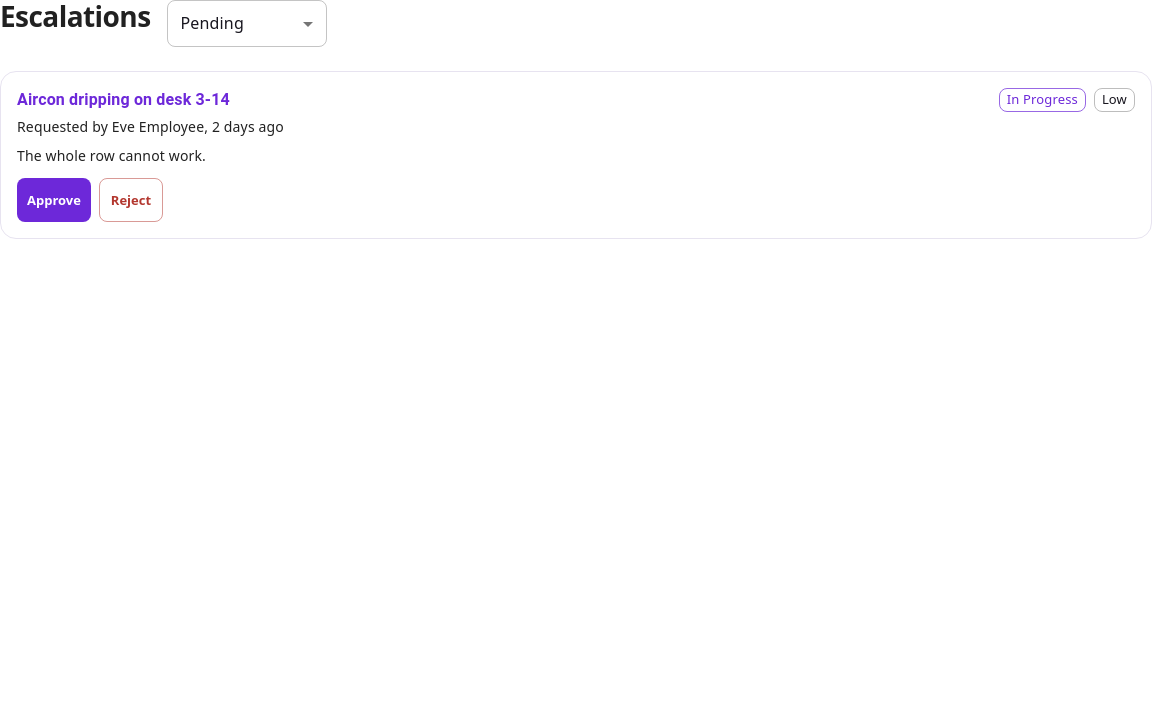
Scenario: EscalationsPage › approves with a note, tells the admin the new priority and reloads
The width and height of the screenshot is (1152, 720).
Click the button "Approve" at (54, 200), box [17,178,91,222]
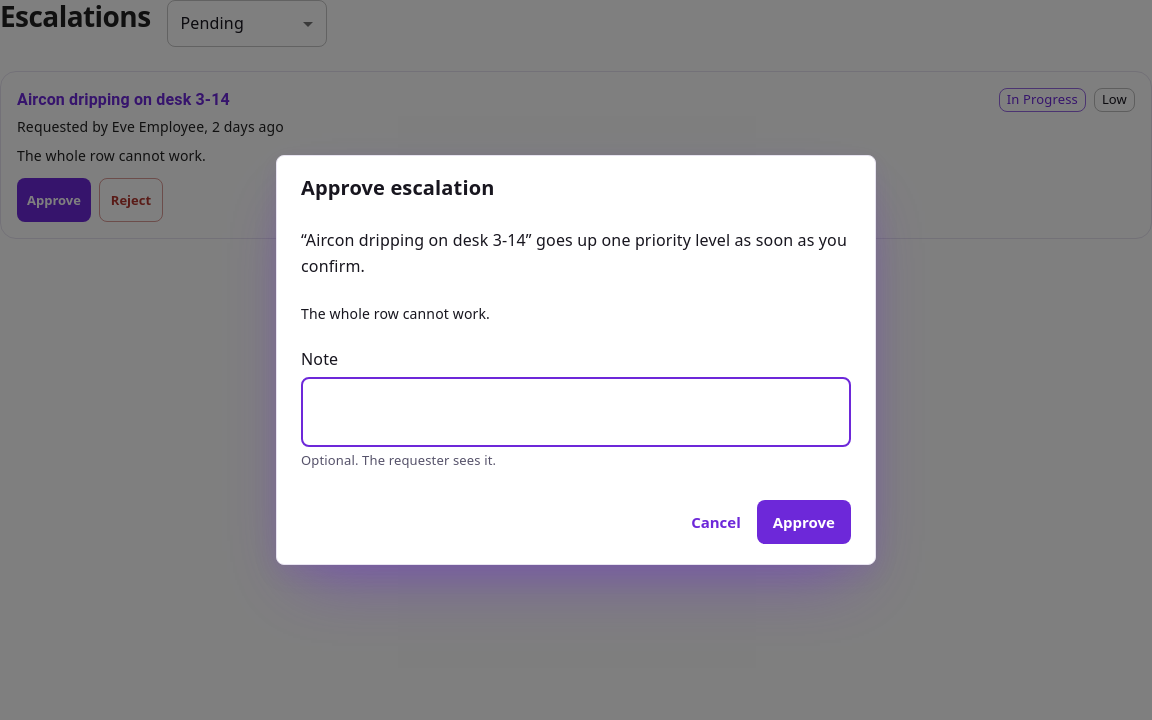
Expected: the text "goes up one priority level" is shown, [301,229,847,277]
Type "Agreed, the row is out." into the text box labelled "Note" at (576, 412), box [301,377,851,447]
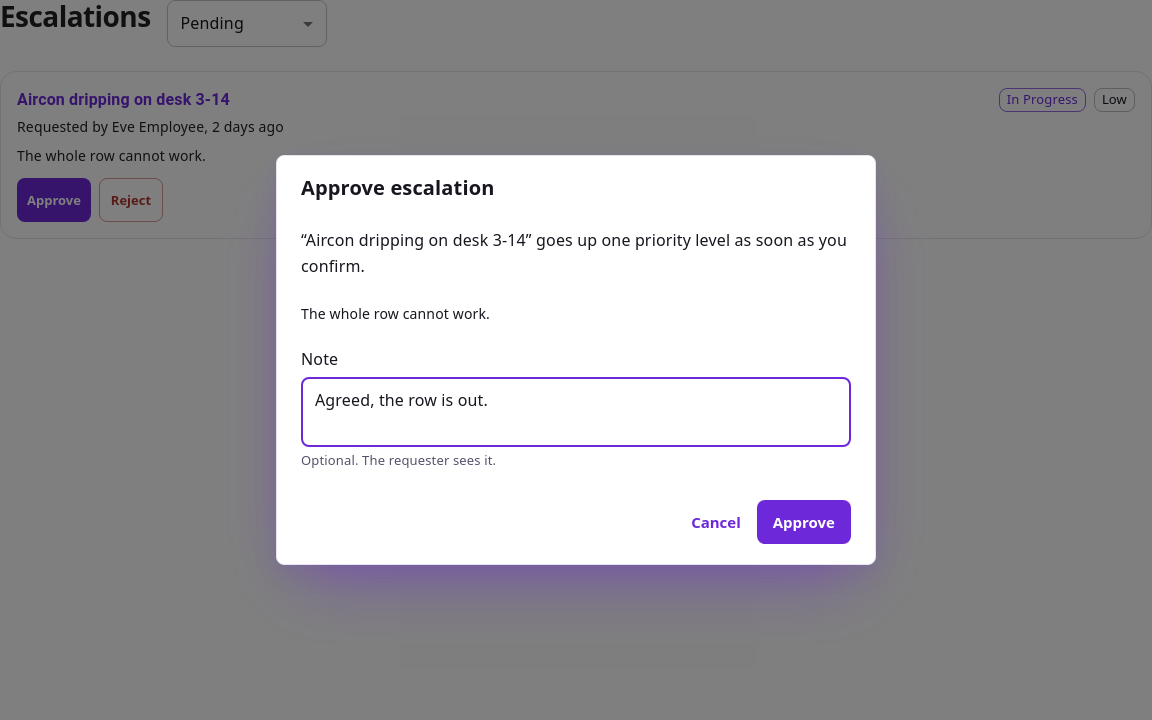
Click the button "Approve" at (804, 522), box [757,500,851,544]
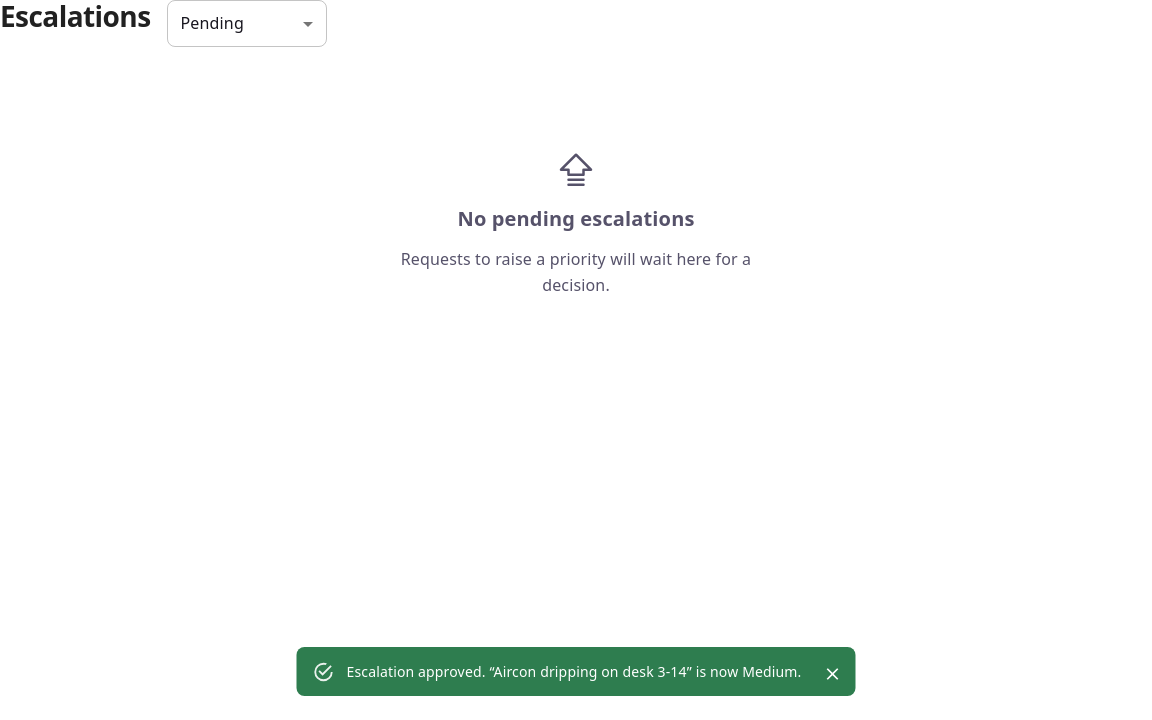
Expected: the message reads "Escalation approved. “Aircon dripping on desk 3-14” is now Medium.", [346,662,802,681]
Expected: the heading "No pending escalations" is shown, [458,203,695,235]
